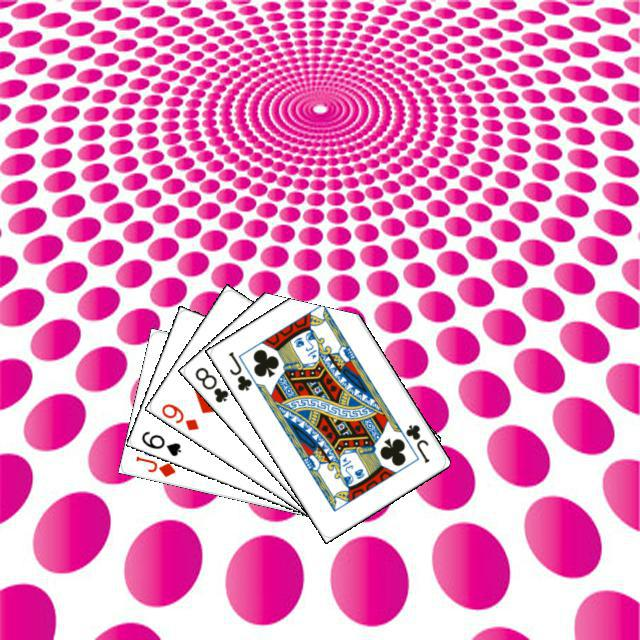6s: (136, 426, 183, 458)
8c: (190, 362, 230, 404)
9d: (156, 398, 201, 432)
Jc: (223, 346, 254, 393), (401, 419, 431, 465)
Jd: (130, 450, 177, 479)
